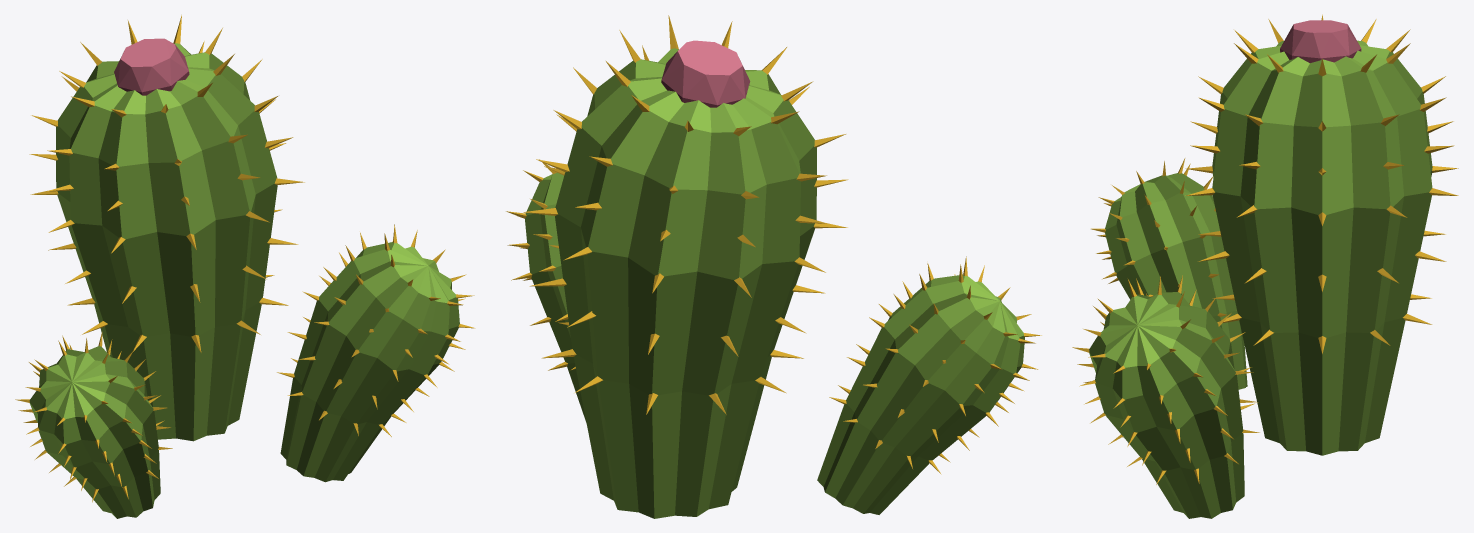
File: CS_Plant_01_L2.fbx
3 renders of one model, left to right at view 1: azimuth 30°, elevation 25°; view 2: azimuth 150°, elevation 25°; view 3: azimuth 270°, elevation 25°, orthographic. The views are drawn at different scales.
Visible parts, largest first — view 1: Plant_01_L2_a, Plant_01_L2_b, Plant_01_L2_c; view 2: Plant_01_L2_a, Plant_01_L2_c, Plant_01_L2_b; view 3: Plant_01_L2_a, Plant_01_L2_b, Plant_01_L2_c.
Part boxes in pixels (x1,y1,x2,y2): Plant_01_L2_a: [29, 15, 304, 441]; Plant_01_L2_b: [277, 224, 475, 482]; Plant_01_L2_c: [15, 331, 172, 518]; Plant_01_L2_a: [523, 15, 848, 518]; Plant_01_L2_c: [817, 256, 1041, 514]; Plant_01_L2_b: [506, 159, 586, 421]; Plant_01_L2_a: [1185, 14, 1458, 455]; Plant_01_L2_b: [1072, 275, 1259, 518]; Plant_01_L2_c: [1091, 158, 1247, 389].
Bounding box in the file's own units: 0.4682 × 0.4235 × 0.3479.
